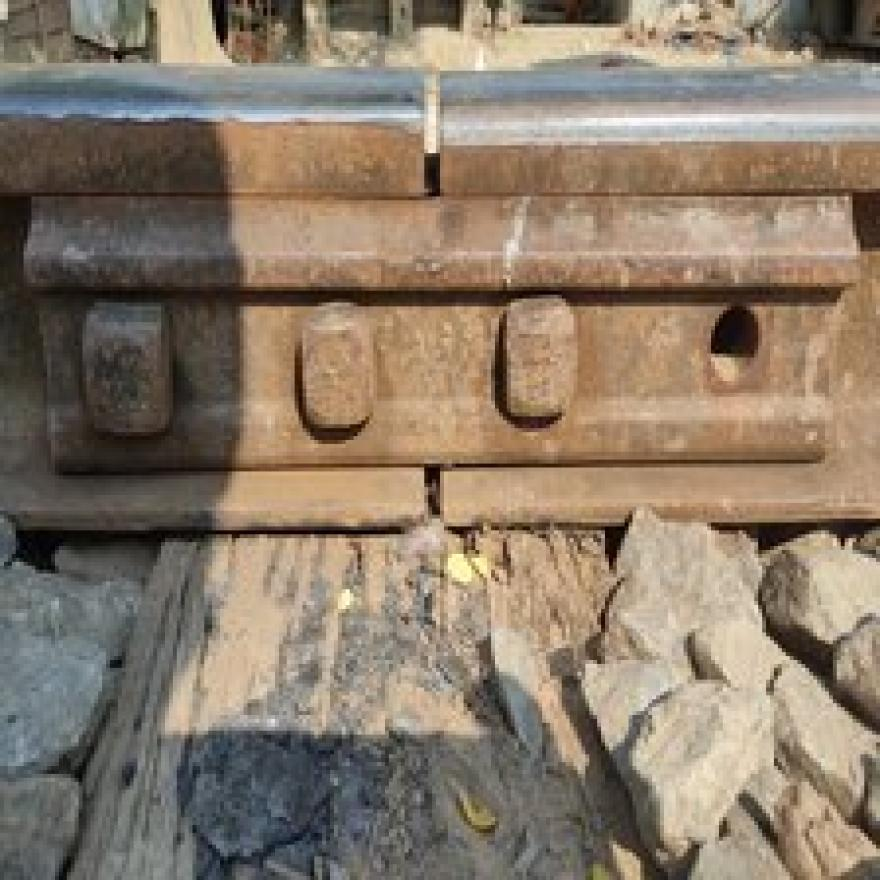railway-gap: (352, 44, 509, 214), (378, 443, 490, 550)
